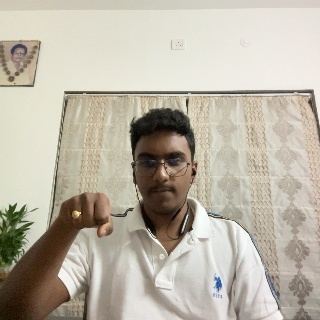Face: (135, 119, 195, 217)
Yes: (60, 185, 116, 244)
